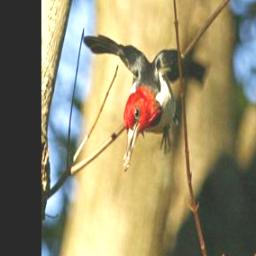Woodpecker: (76, 22, 208, 175)
